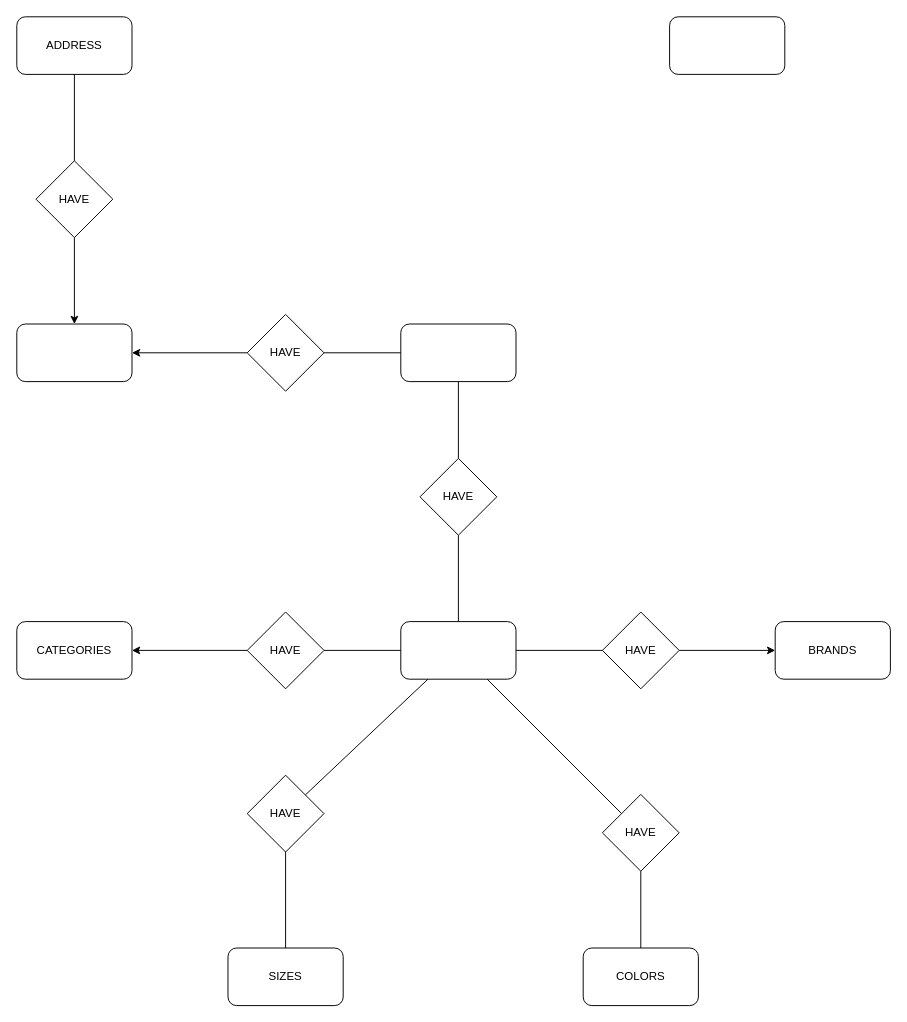
The diagram is 907 pixels wide and 1022 high, and some of its shapes have lost their labels. Here are the shapes that lost their labels. From the top down, the box of each, then its label:
(669, 16, 785, 74): STORES
(16, 323, 132, 382): USERS
(400, 323, 516, 382): ORDERS
(400, 621, 516, 679): PRODUCTS
